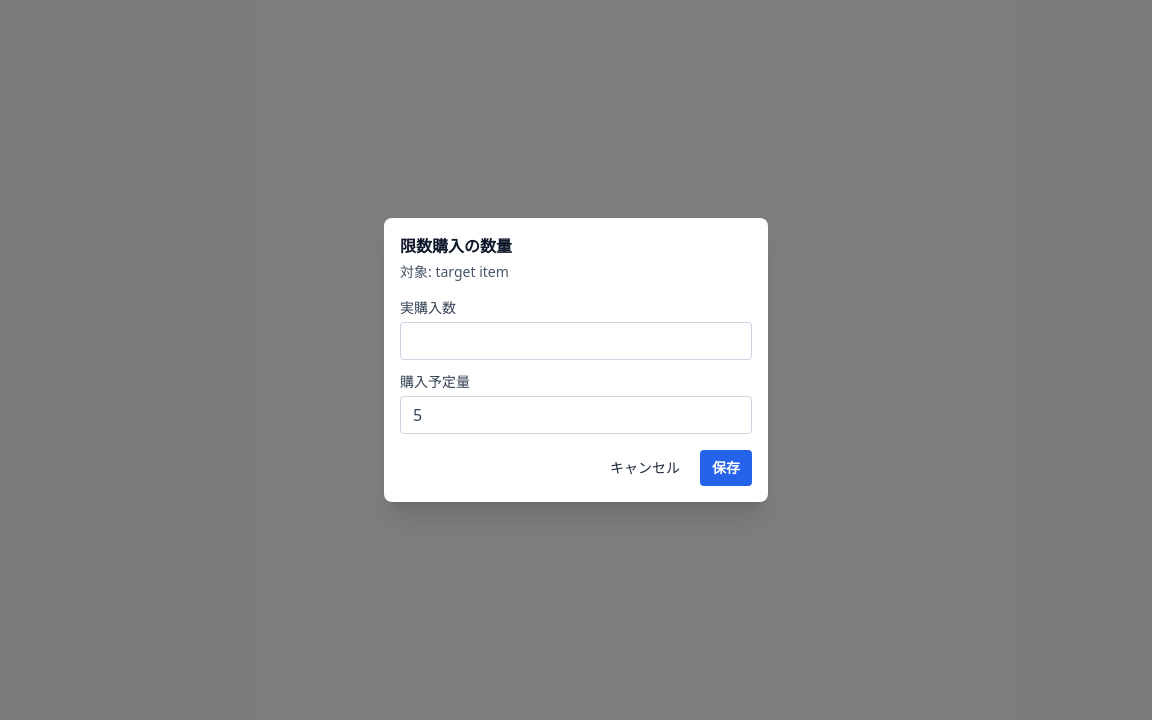
Test: LimitedPurchaseDialog › shows custom excess confirmation and can return to the input dialog
Type "6" into the field labelled "実購入数" at (576, 341), box left=400, top=322, right=752, bottom=360
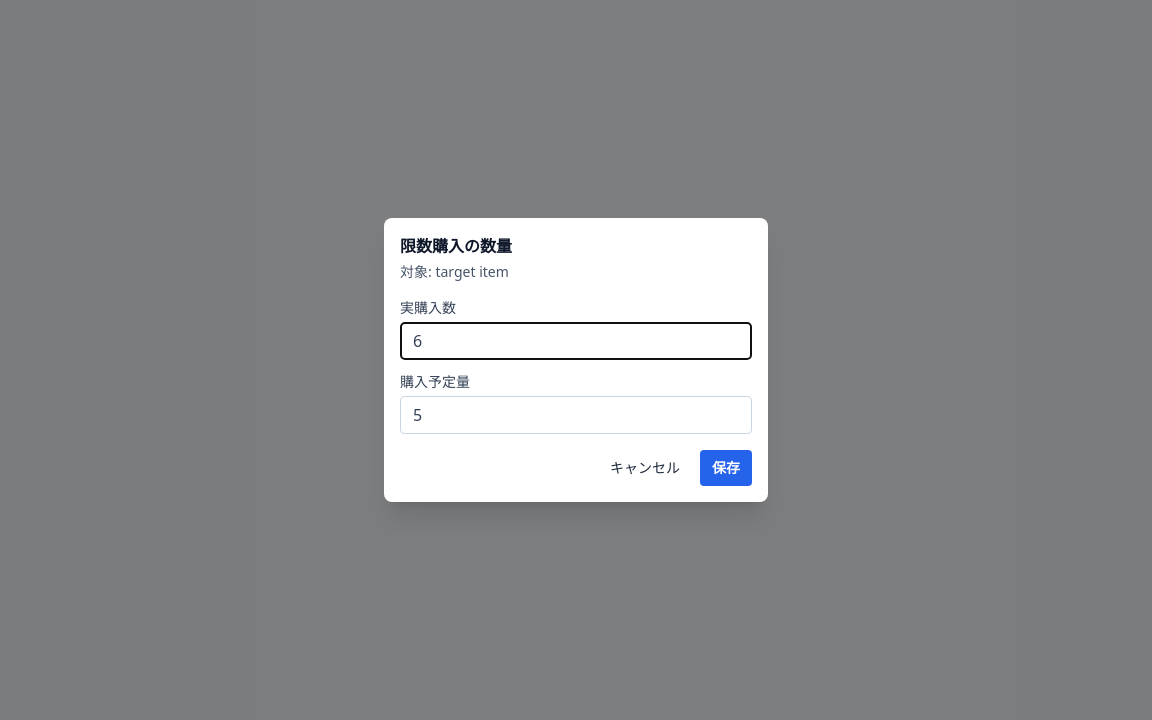
Click the button "保存" at (726, 468), box left=700, top=450, right=752, bottom=486
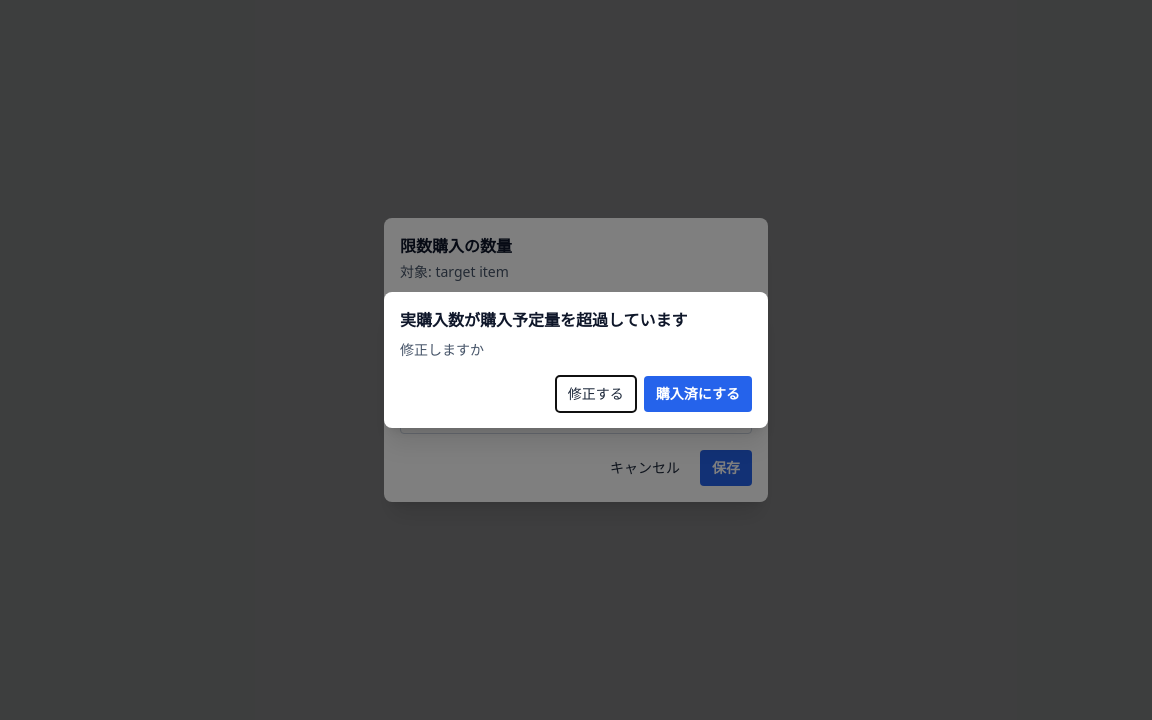
Result: the number of dialogs is 2
Click the button "修正する" at (596, 394), box left=556, top=376, right=636, bottom=412
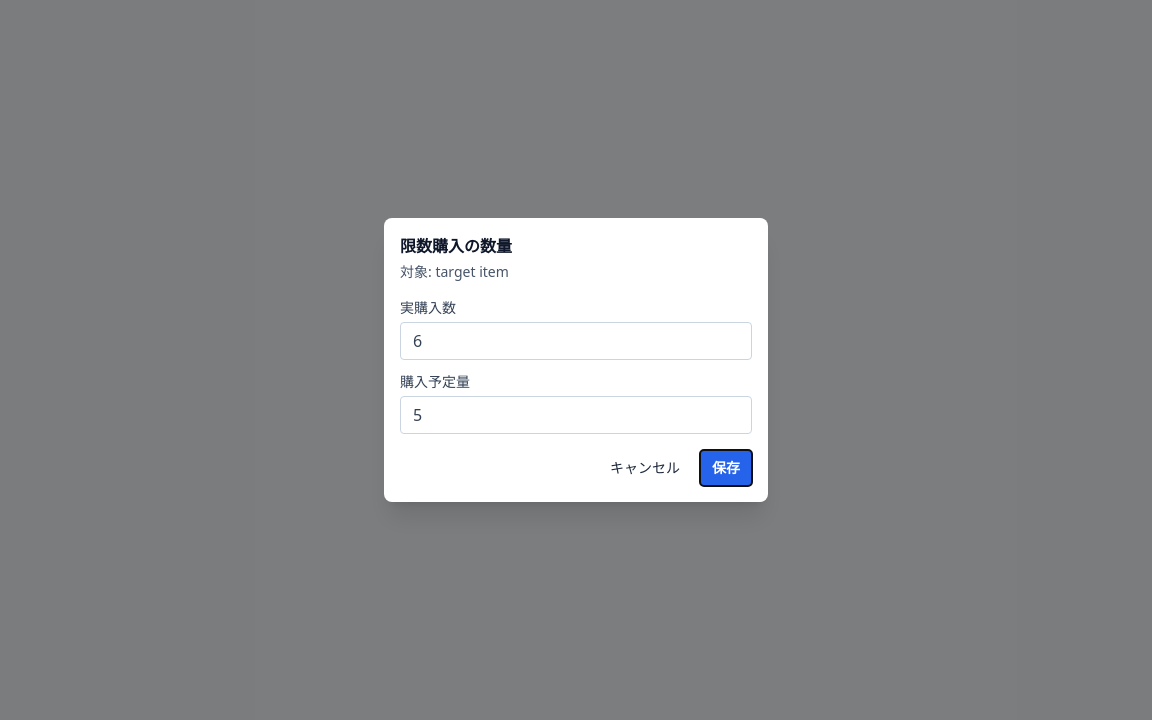
Result: the number of dialogs is 1
